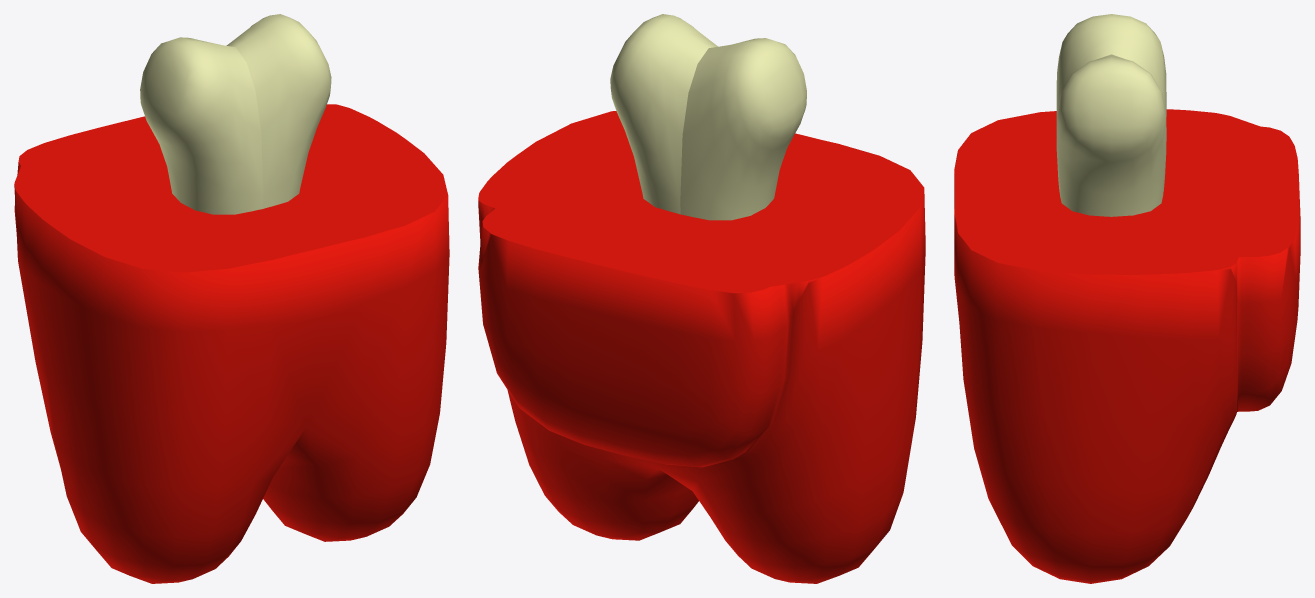
The model's file is brokenBodyAmogus.fbx.
The picture shows the model from 3 angles, left to right: view 1: azimuth 30°, elevation 25°; view 2: azimuth 150°, elevation 25°; view 3: azimuth 270°, elevation 25°; orthographic projection. The views are drawn at different scales.
Parts seen in each view (by area): view 1: Cube.001, Os_Cube.002; view 2: Cube.001, Os_Cube.002; view 3: Cube.001, Os_Cube.002.
Boxes of the visible parts, x1,y1,x2,y2 form: Cube.001: (14,104,449,583); Os_Cube.002: (140,14,331,214); Cube.001: (478,111,925,583); Os_Cube.002: (610,14,806,220); Cube.001: (954,109,1300,583); Os_Cube.002: (1056,14,1166,216).
Size of the model in its own units: 125 by 174 by 110.
